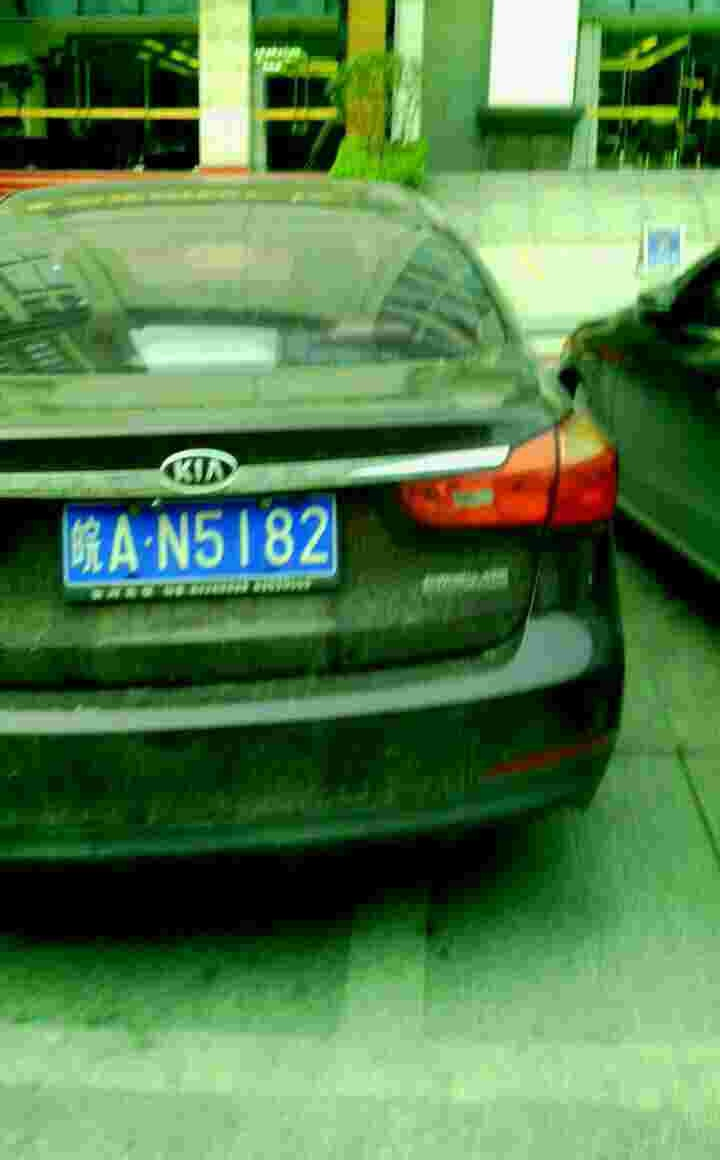license_plate: (60, 496, 338, 592)
